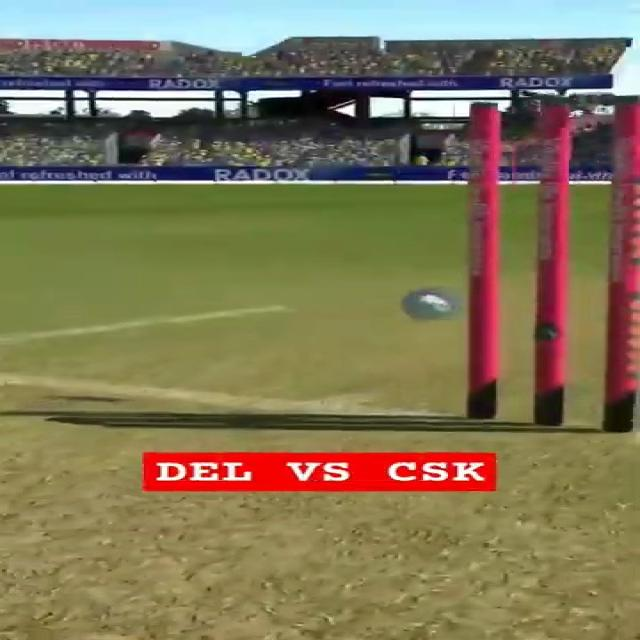ball: (398, 285, 457, 323)
